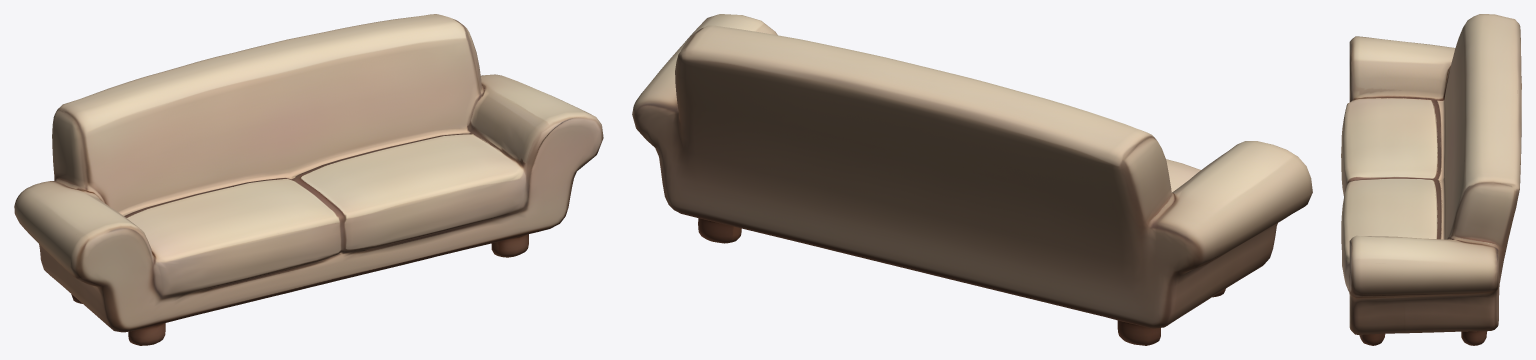
Rendered from sofa_yoko.obj.
The picture shows the model from 3 angles, left to right: view 1: azimuth 30°, elevation 25°; view 2: azimuth 150°, elevation 25°; view 3: azimuth 270°, elevation 25°; orthographic projection. The views are drawn at different scales.
Visible parts, largest first — view 1: 0cb83e1b-1055-418d-a846-41af8f011638; view 2: 0cb83e1b-1055-418d-a846-41af8f011638; view 3: 0cb83e1b-1055-418d-a846-41af8f011638.
Boxes of the visible parts, x1=… form: 0cb83e1b-1055-418d-a846-41af8f011638: x1=14, y1=14, x2=603, y2=345; 0cb83e1b-1055-418d-a846-41af8f011638: x1=632, y1=14, x2=1312, y2=345; 0cb83e1b-1055-418d-a846-41af8f011638: x1=1341, y1=14, x2=1521, y2=345.
Bounding box in the file's own units: 2.86 × 1 × 0.9417.
Materials: 1 (1 with a texture image).
